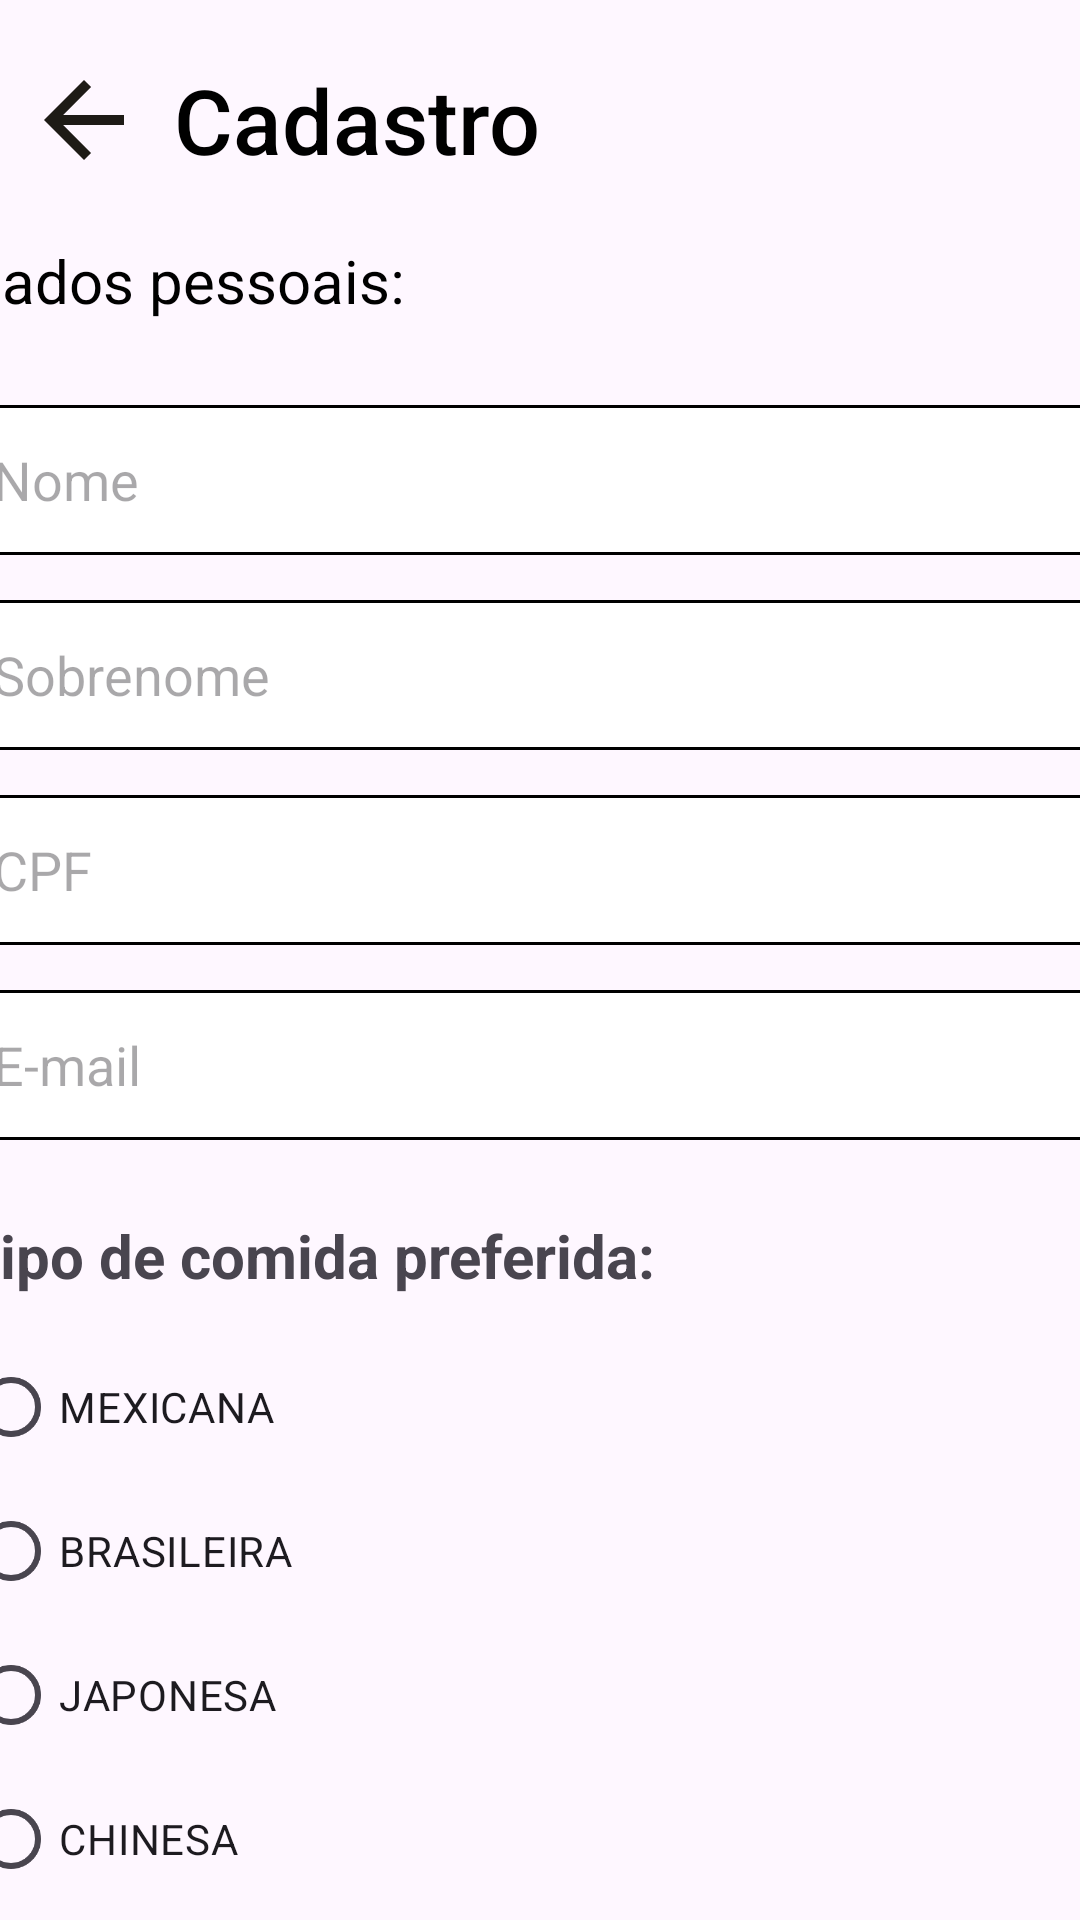

Locate icon controls on the screen. Image size 1080px×1920px, boxes as [left=x1, top=y1, right=x2, bottom=y2].
seta preta voltar: [left=44, top=80, right=124, bottom=160]
